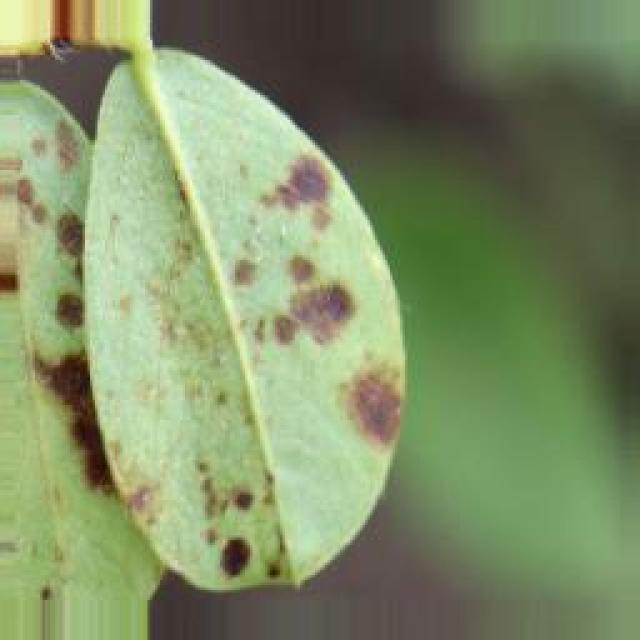Whitefly: (5, 69, 478, 610)
